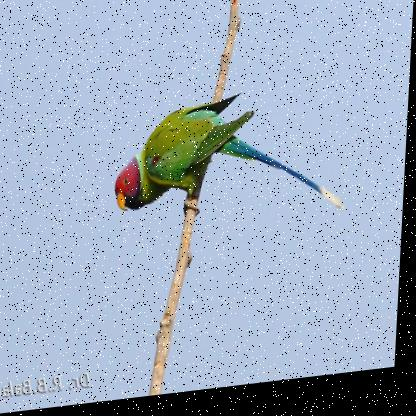Burung: (115, 87, 357, 240)
